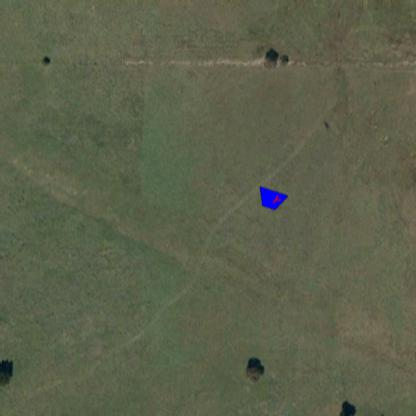Y: (272, 193, 282, 205)
trapezium: (260, 184, 290, 211)
